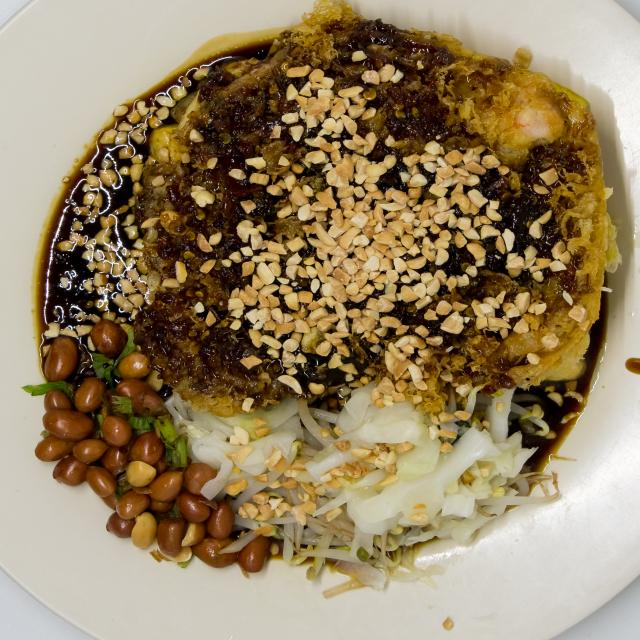Tahu-Telur: (34, 11, 616, 576)
